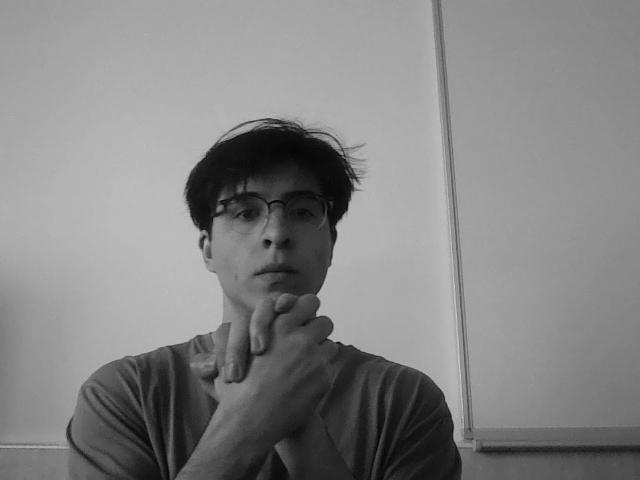friend: (189, 290, 346, 462)
